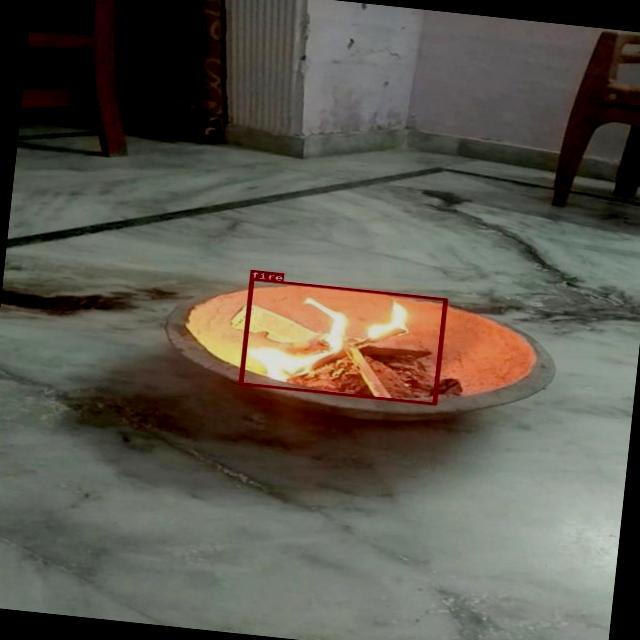fire: (238, 277, 447, 404)
